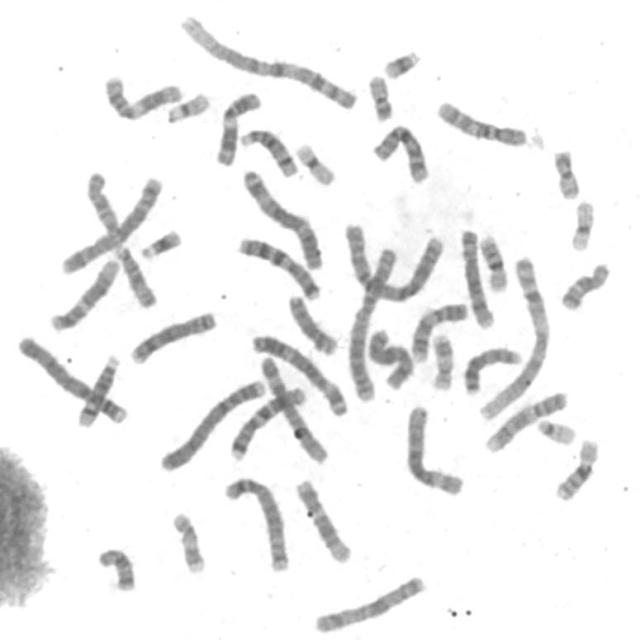A1: (174, 8, 361, 112), (473, 251, 553, 423)
A2: (341, 240, 401, 404), (339, 215, 445, 303)
A3: (236, 162, 326, 272), (249, 328, 351, 419)
B4: (11, 328, 130, 426), (154, 373, 268, 475)
B5: (55, 171, 165, 276), (219, 471, 291, 574)
C10: (431, 94, 529, 150), (367, 118, 431, 186)
C11: (98, 70, 184, 122), (210, 86, 264, 167)
C12: (44, 252, 122, 334), (291, 474, 354, 566)
C6: (255, 349, 330, 466), (401, 400, 466, 498)
C7: (223, 379, 310, 462), (232, 231, 323, 303)
C8: (124, 306, 220, 366), (455, 223, 498, 330)
C9: (480, 387, 570, 454), (406, 297, 471, 365)
D13: (282, 289, 340, 357), (458, 341, 524, 397)
D14: (72, 349, 122, 429), (234, 123, 299, 178)
D15: (82, 159, 130, 245), (110, 240, 158, 310)
E16: (549, 432, 602, 503), (475, 229, 510, 294)
E17: (167, 506, 208, 576), (426, 328, 457, 392)
E18: (556, 257, 612, 312), (92, 542, 138, 594)
F19: (292, 138, 338, 188), (565, 194, 598, 253)
F20: (548, 143, 582, 201), (363, 70, 395, 124)
G21: (135, 223, 183, 262), (378, 43, 423, 81)
G22: (162, 87, 211, 125), (532, 413, 579, 447)
X: (309, 570, 428, 635), (362, 323, 415, 392)
